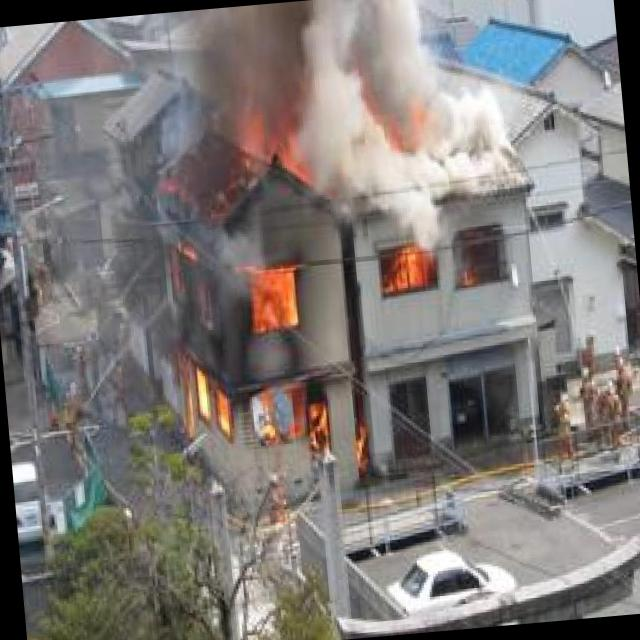Fire: (150, 88, 374, 528), (381, 242, 435, 299)
Smoke: (326, 0, 503, 205), (174, 0, 343, 148)
